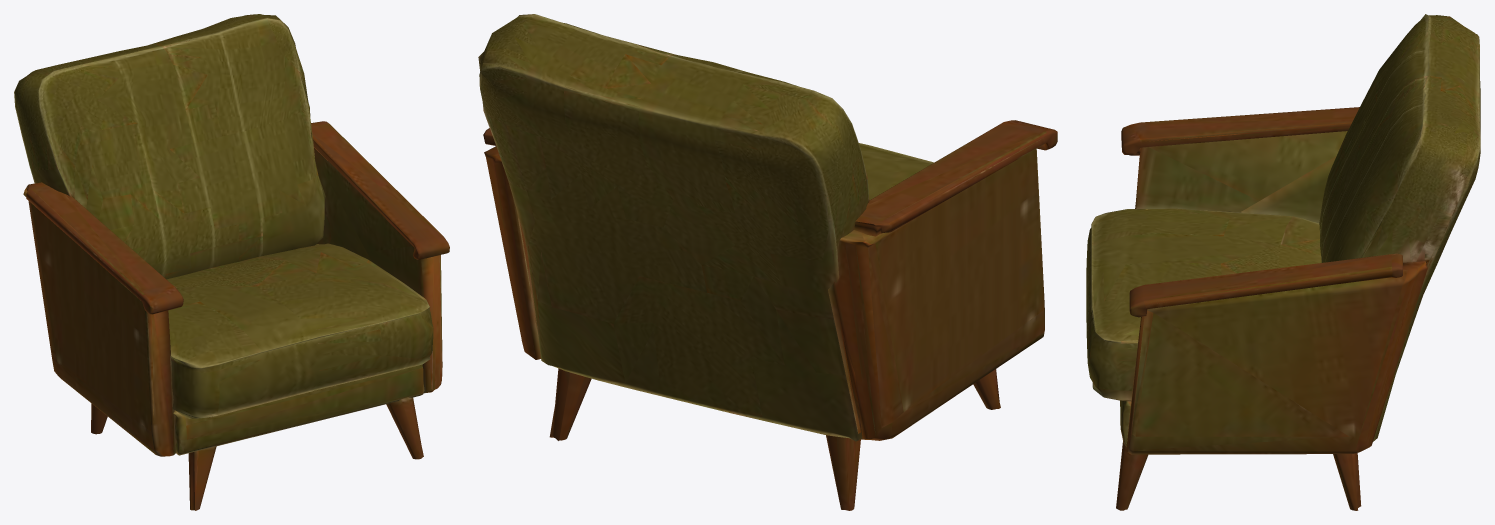
Rendered from armchair__1.glb.
The picture shows the model from 3 angles, left to right: view 1: azimuth 30°, elevation 25°; view 2: azimuth 150°, elevation 25°; view 3: azimuth 270°, elevation 25°; orthographic projection. The views are drawn at different scales.
Visible parts, largest first — view 1: Mesh_0.322; view 2: Mesh_0.322; view 3: Mesh_0.322.
Boxes of the visible parts, bbox=[...] form: Mesh_0.322: bbox=[14, 14, 449, 510]; Mesh_0.322: bbox=[478, 14, 1057, 510]; Mesh_0.322: bbox=[1086, 14, 1480, 510].
Bounding box in the file's own units: 0.801 × 0.86 × 0.8196.
1 material, 1 textured.
